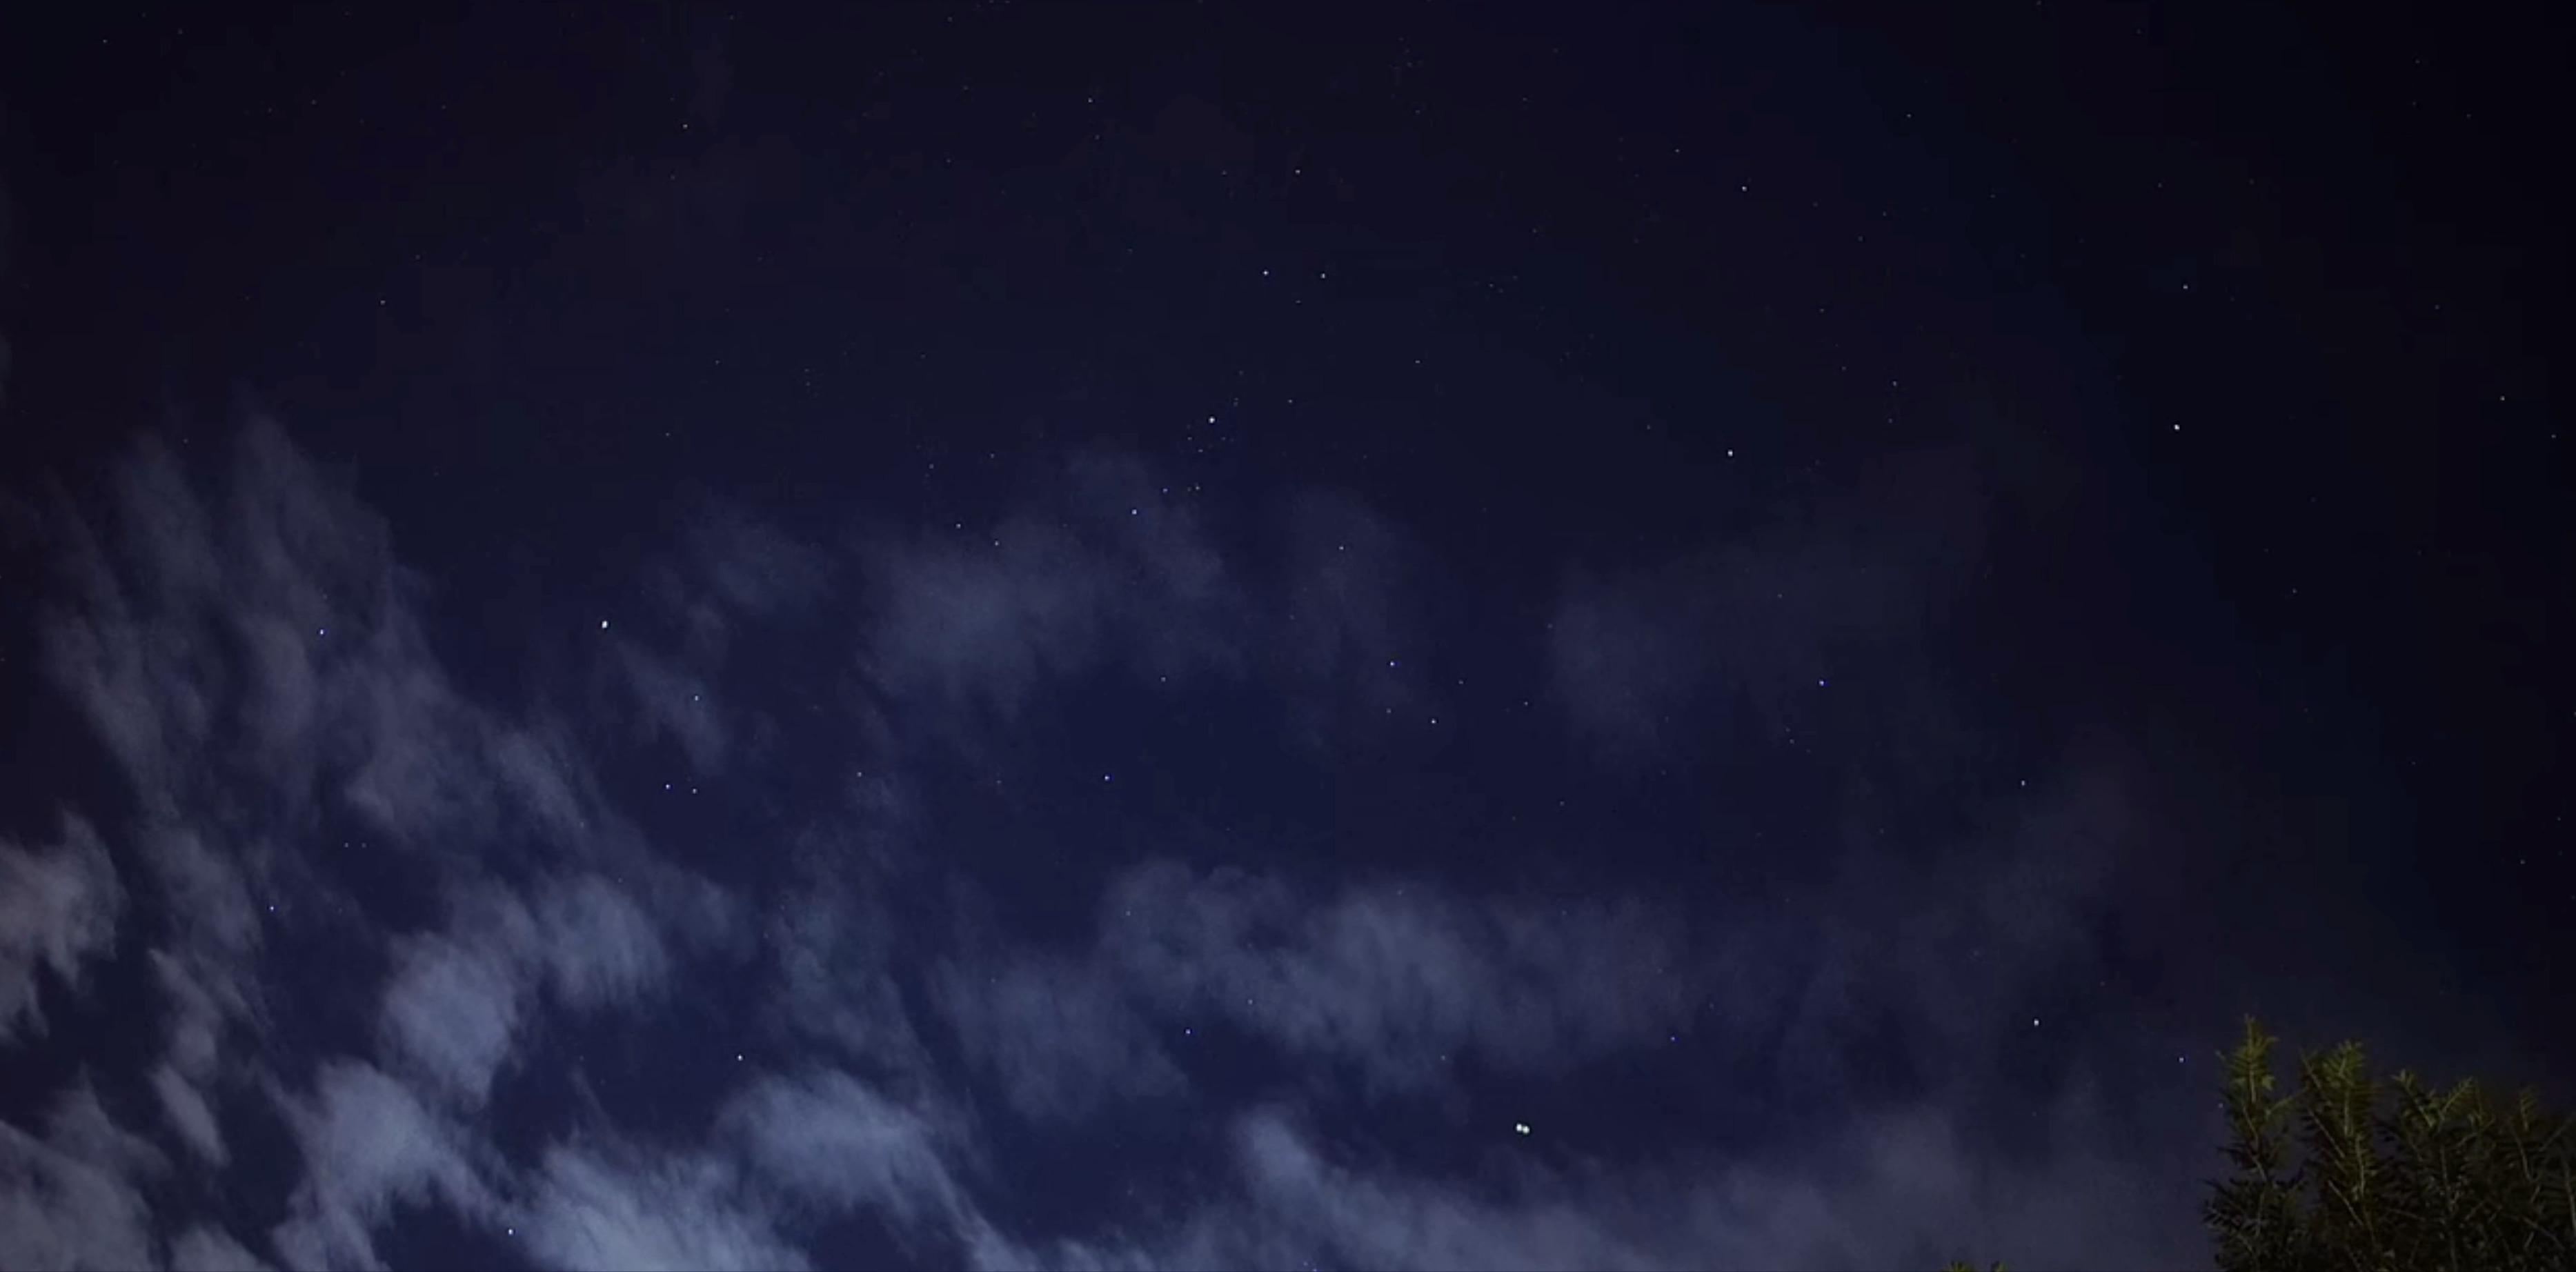Plane: (1495, 1104, 1551, 1154)
